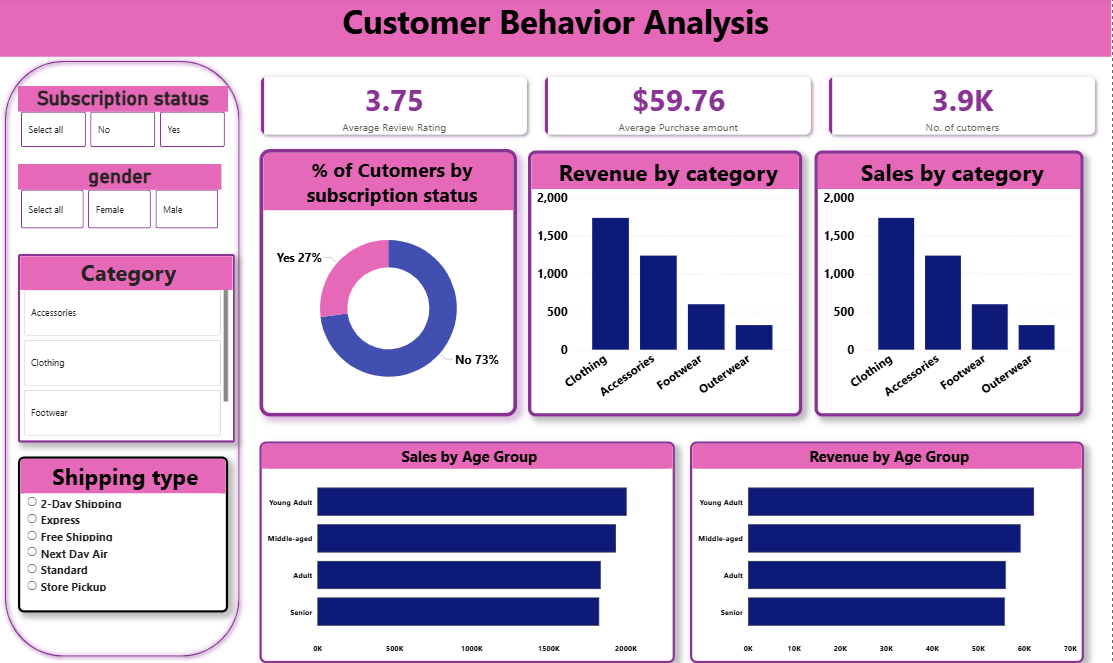

The page's visual inventory and layout, read from the dashboard file:
{"tool":"powerbi","page":{"name":"Page 1","canvas":[2000,1200],"ordinal":0},"visuals":[{"type":"cardVisual","fields":{"Data":["customer_behaviour customer.Average Review Rating","customer_behaviour customer.Average Purchase amount","customer_behaviour customer.No. of cutomers"]},"box":[440,115.2,1559.1,162.4],"z":0},{"type":"donutChart","title":"% of Cutomers by subscription status","fields":{"Y":["CountNonNull(customer_behaviour customer.customer_id)"],"Category":["customer_behaviour customer.subscription_status"]},"box":[466.5,274.6,463.6,481.3],"z":2000},{"type":"clusteredColumnChart","title":"Revenue by category","fields":{"Y":["Sum(customer_behaviour customer.purchase_amount)"],"Category":["customer_behaviour customer.category"]},"box":[950.8,277.6,493.1,478.4],"z":3000},{"type":"clusteredColumnChart","title":"Sales by category","fields":{"Category":["customer_behaviour customer.category"],"Y":["CountNonNull(customer_behaviour customer.customer_id)"]},"box":[1464.6,277.6,484.3,478.4],"z":4000},{"type":"shape","box":[0,109.3,440,1089.6],"z":5000},{"type":"advancedSlicerVisual","title":"Subscription status","fields":{"Values":["customer_behaviour customer.subscription_status"]},"box":[32.5,150.6,378,124],"z":6000},{"type":"clusteredBarChart","title":"Sales by Age Group","fields":{"Y":["Sum(customer_behaviour customer.customer_id)"],"Category":["customer_behaviour customer.age_group"]},"box":[466.5,800.2,747.1,398.6],"z":7000},{"type":"clusteredBarChart","title":"Revenue by Age Group","fields":{"Category":["customer_behaviour customer.age_group"],"Y":["Sum(customer_behaviour customer.purchase_amount)"]},"box":[1240.2,800.2,708.7,398.6],"z":8000},{"type":"advancedSlicerVisual","title":"Category","fields":{"Values":["customer_behaviour customer.category"]},"box":[32.5,463.6,389.8,339.6],"z":9000},{"type":"listSlicer","title":"Shipping type","fields":{"Values":["customer_behaviour customer.shipping_type"]},"box":[32.5,829.7,378,280.5],"z":10000},{"type":"advancedSlicerVisual","fields":{"Values":["customer_behaviour customer.gender"]},"box":[32.5,301.2,366.1,121.1],"z":11000},{"type":"textbox","box":[0,0,1999,109.3],"z":12000}]}

Visuals, with their boxes in screenshot pixels (x1, y1, x2, y2), scaled from the page's 2000x1200 canvas onto the 1113x663 screenshot:
cardVisual - customer_behaviour customer.Average Review Rating x customer_behaviour customer.Average Purchase amount: pyautogui.locateOnScreen(245, 64, 1112, 153)
"% of Cutomers by subscription status" donutChart: pyautogui.locateOnScreen(260, 152, 518, 418)
"Revenue by category" clusteredColumnChart: pyautogui.locateOnScreen(529, 153, 804, 418)
"Sales by category" clusteredColumnChart: pyautogui.locateOnScreen(815, 153, 1085, 418)
shape: pyautogui.locateOnScreen(0, 60, 245, 662)
"Subscription status" advancedSlicerVisual: pyautogui.locateOnScreen(18, 83, 228, 152)
"Sales by Age Group" clusteredBarChart: pyautogui.locateOnScreen(260, 442, 675, 662)
"Revenue by Age Group" clusteredBarChart: pyautogui.locateOnScreen(690, 442, 1085, 662)
"Category" advancedSlicerVisual: pyautogui.locateOnScreen(18, 256, 235, 444)
"Shipping type" listSlicer: pyautogui.locateOnScreen(18, 458, 228, 613)
advancedSlicerVisual - customer_behaviour customer.gender: pyautogui.locateOnScreen(18, 166, 222, 233)
textbox: pyautogui.locateOnScreen(0, 0, 1112, 60)
